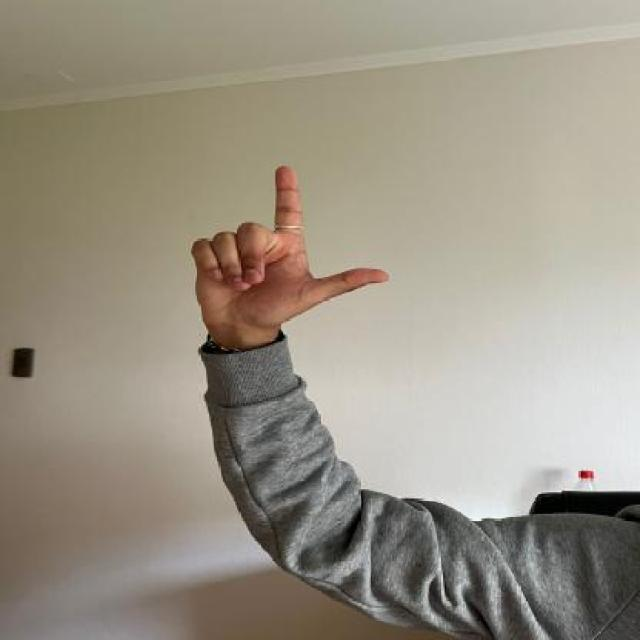L: (180, 155, 392, 343)
